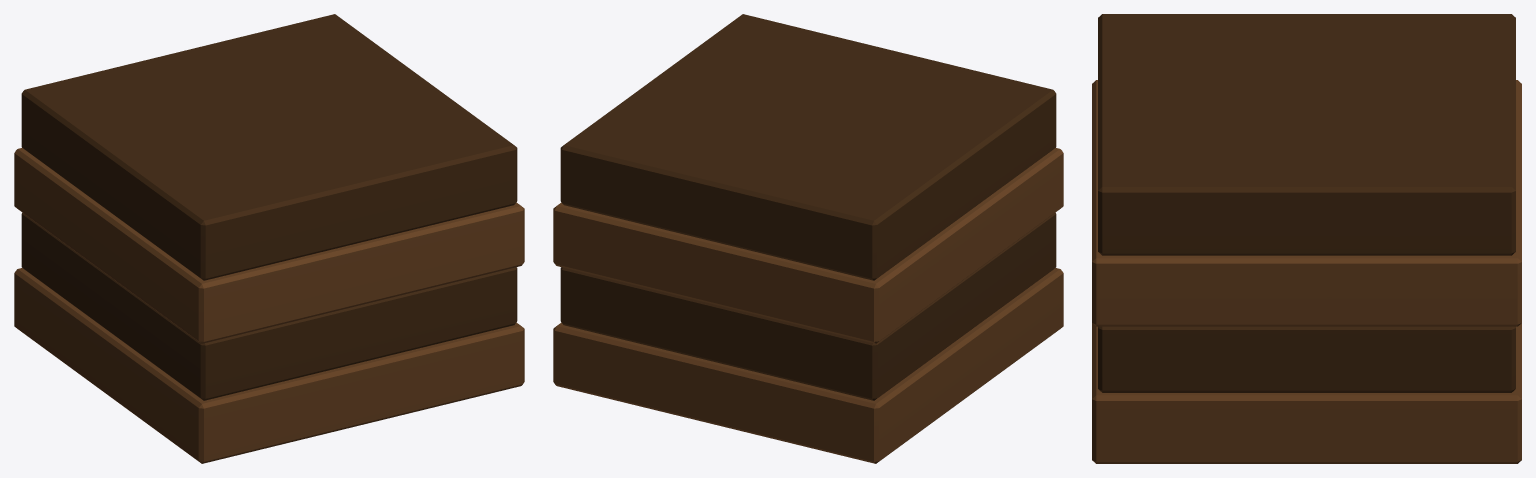
Rendered from column_earth.glb.
The picture shows the model from 3 angles, left to right: view 1: azimuth 30°, elevation 25°; view 2: azimuth 150°, elevation 25°; view 3: azimuth 270°, elevation 25°; orthographic projection. The views are drawn at different scales.
Parts seen in each view (by area): view 1: column_earth; view 2: column_earth; view 3: column_earth.
Part boxes in pixels (<box>): column_earth: <box>14,14,524,463</box>; column_earth: <box>553,14,1063,463</box>; column_earth: <box>1092,14,1521,463</box>.
Bounding box in the file's own units: 1.42 × 1 × 1.42.
